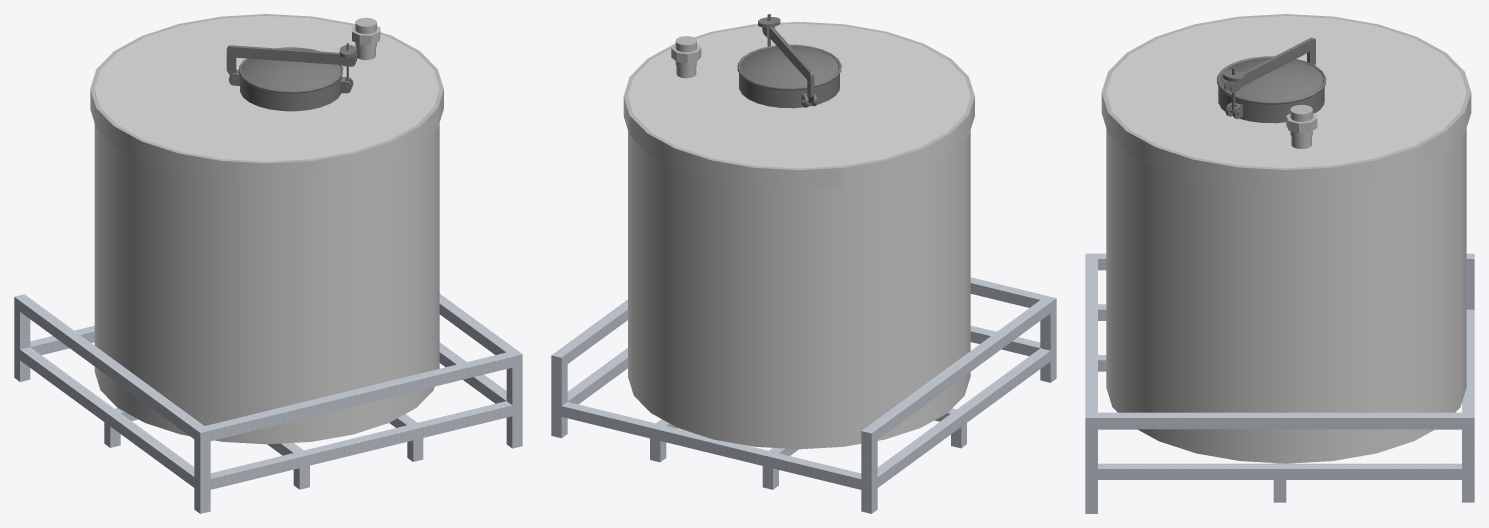
File: stage6_2.glb
The picture shows the model from 3 angles, left to right: view 1: azimuth 30°, elevation 25°; view 2: azimuth 150°, elevation 25°; view 3: azimuth 270°, elevation 25°; orthographic projection. The views are drawn at different scales.
Visible parts, largest first — view 1: CuveADDITIFS#1, object 5, PORTE#1, RaccordDn50; view 2: CuveADDITIFS#1, object 5, PORTE#1, RaccordDn50; view 3: CuveADDITIFS#1, object 5, PORTE#1, RaccordDn50.
Part boxes in pixels (x1=…): CuveADDITIFS#1: x1=90, y1=14, x2=443, y2=444; object 5: x1=14, y1=294, x2=522, y2=513; PORTE#1: x1=226, y1=43, x2=357, y2=111; RaccordDn50: x1=352, y1=17, x2=380, y2=50; CuveADDITIFS#1: x1=623, y1=21, x2=974, y2=449; object 5: x1=551, y1=277, x2=1056, y2=513; PORTE#1: x1=737, y1=14, x2=841, y2=108; RaccordDn50: x1=671, y1=36, x2=701, y2=68; CuveADDITIFS#1: x1=1101, y1=14, x2=1471, y2=463; object 5: x1=1085, y1=253, x2=1474, y2=513; PORTE#1: x1=1217, y1=37, x2=1326, y2=123; RaccordDn50: x1=1286, y1=104, x2=1317, y2=138.
Size of the model in its own units: 1.25 by 1.39 by 1.25.
4 materials, 1 textured.
